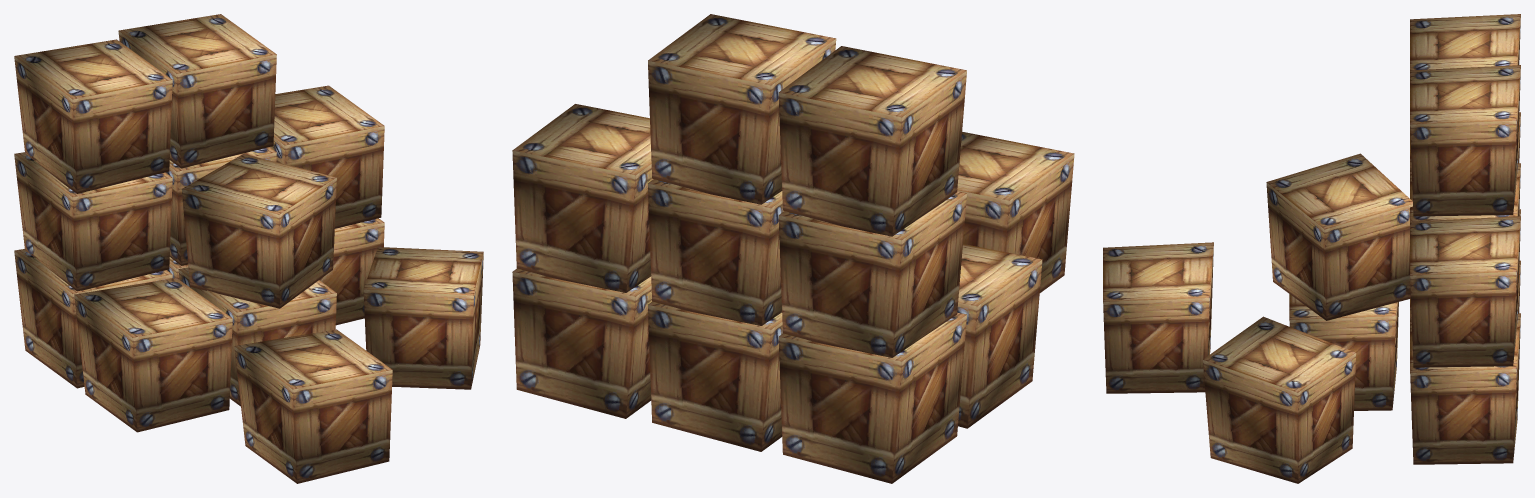
Rendered from obj_macoprbo01-02.glb.
The picture shows the model from 3 angles, left to right: view 1: azimuth 30°, elevation 25°; view 2: azimuth 150°, elevation 25°; view 3: azimuth 270°, elevation 25°; orthographic projection. The views are drawn at different scales.
Visible parts, largest first — view 1: part_0; view 2: part_0; view 3: part_0.
Part boxes in pixels (<box>): part_0: <box>14,14,483,483</box>; part_0: <box>512,14,1074,483</box>; part_0: <box>1103,14,1520,483</box>.
Bounding box in the file's own units: 2.82 × 2.22 × 2.83.
Materials: 1 (1 with a texture image).
